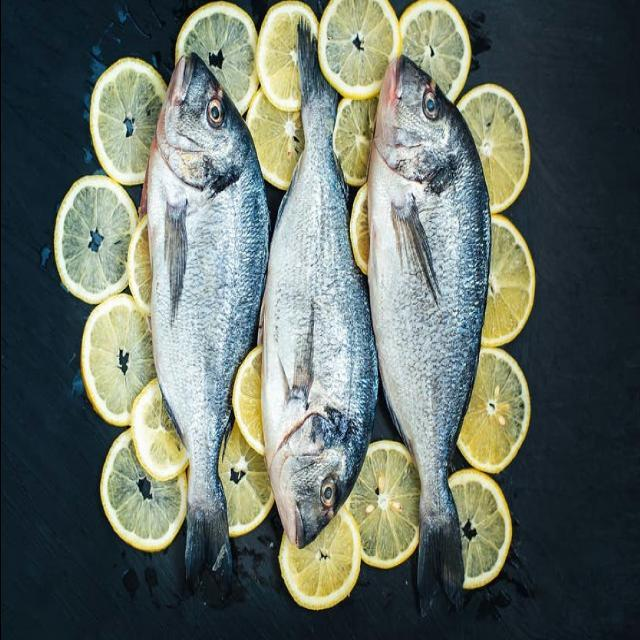fish: (366, 54, 489, 610), (143, 52, 267, 586), (257, 22, 376, 546)
